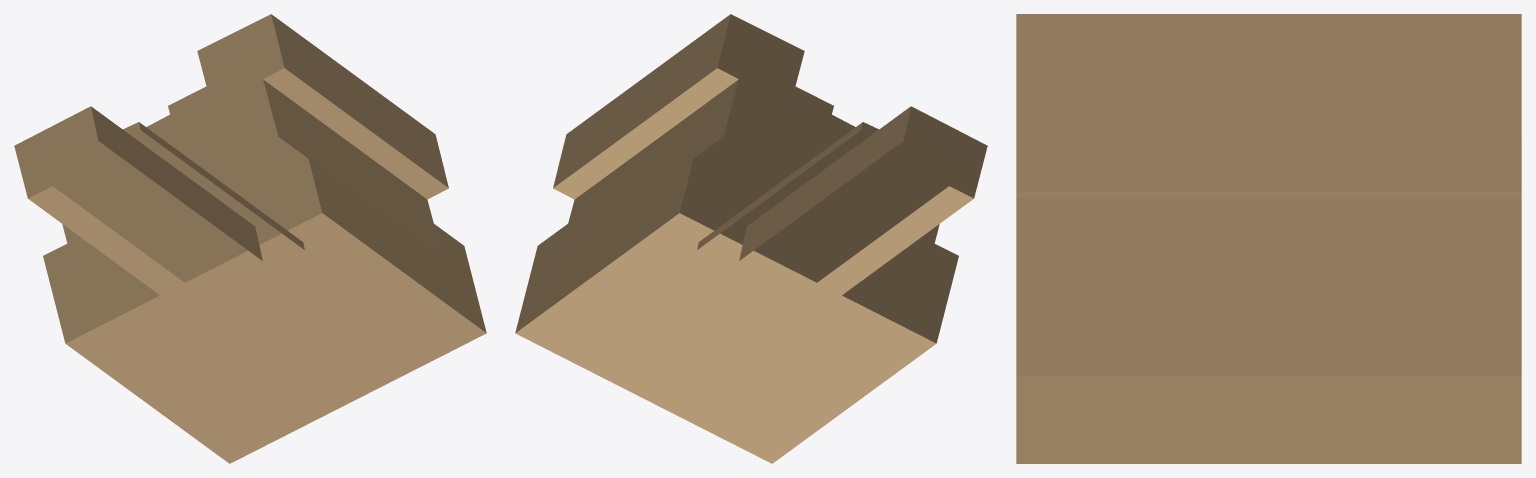
3 views of the same model, side by side, from view 1: azimuth 30°, elevation 25°; view 2: azimuth 150°, elevation 25°; view 3: azimuth 270°, elevation 25° (orthographic). The views are drawn at different scales.
Visible parts, largest first — view 1: 0_1_0_0_0_1_1_1_2; view 2: 0_1_0_0_0_1_1_1_2; view 3: 0_1_0_0_0_1_1_1_2.
Boxes of the visible parts, x1,y1,x2,y2 form: 0_1_0_0_0_1_1_1_2: (14, 14, 486, 463); 0_1_0_0_0_1_1_1_2: (515, 14, 987, 463); 0_1_0_0_0_1_1_1_2: (1016, 14, 1521, 463).
Size of the model in its own units: 25.97 by 22.5 by 24.
